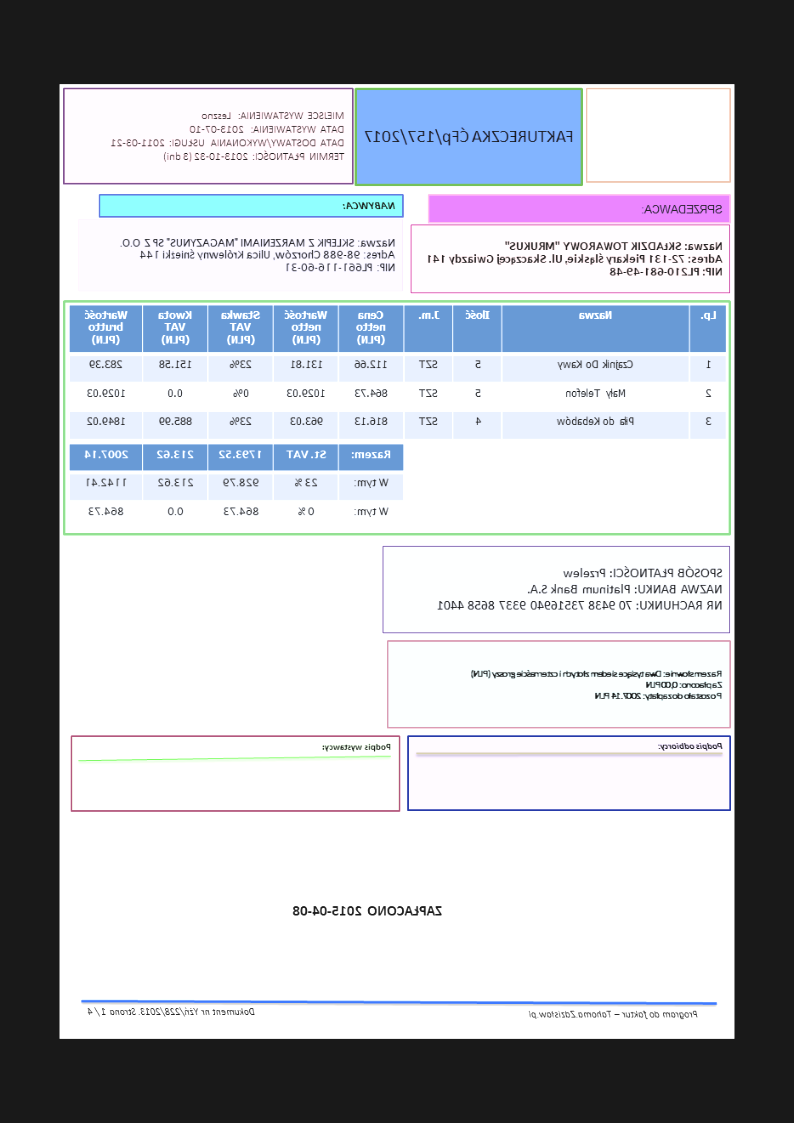Table: (71, 303, 728, 438), (67, 441, 406, 530)
TextBox: (434, 562, 728, 615), (107, 107, 350, 167), (426, 235, 726, 281), (117, 232, 400, 276), (466, 665, 725, 703), (362, 121, 581, 149), (526, 1002, 704, 1025), (289, 899, 450, 921), (82, 1004, 258, 1020), (655, 736, 726, 756), (640, 200, 728, 216), (320, 739, 399, 755), (343, 197, 399, 214)
